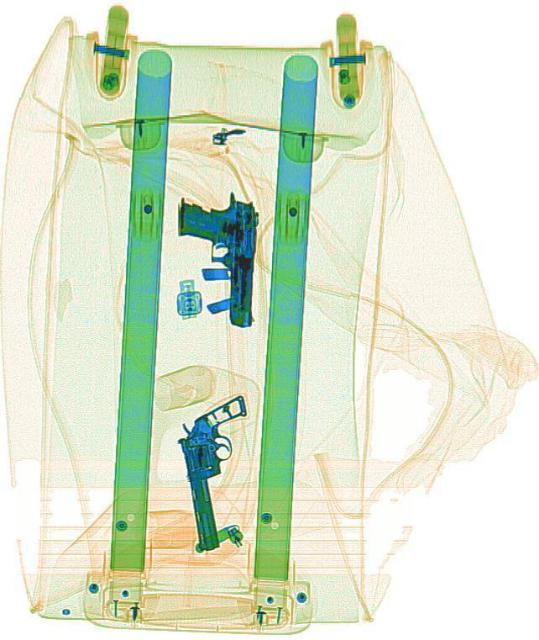Gun: (172, 394, 267, 552), (173, 186, 258, 326)
